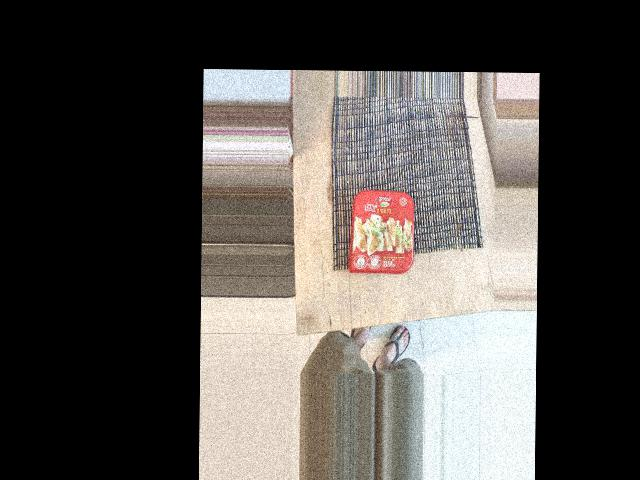cheese: (375, 167, 480, 270)
